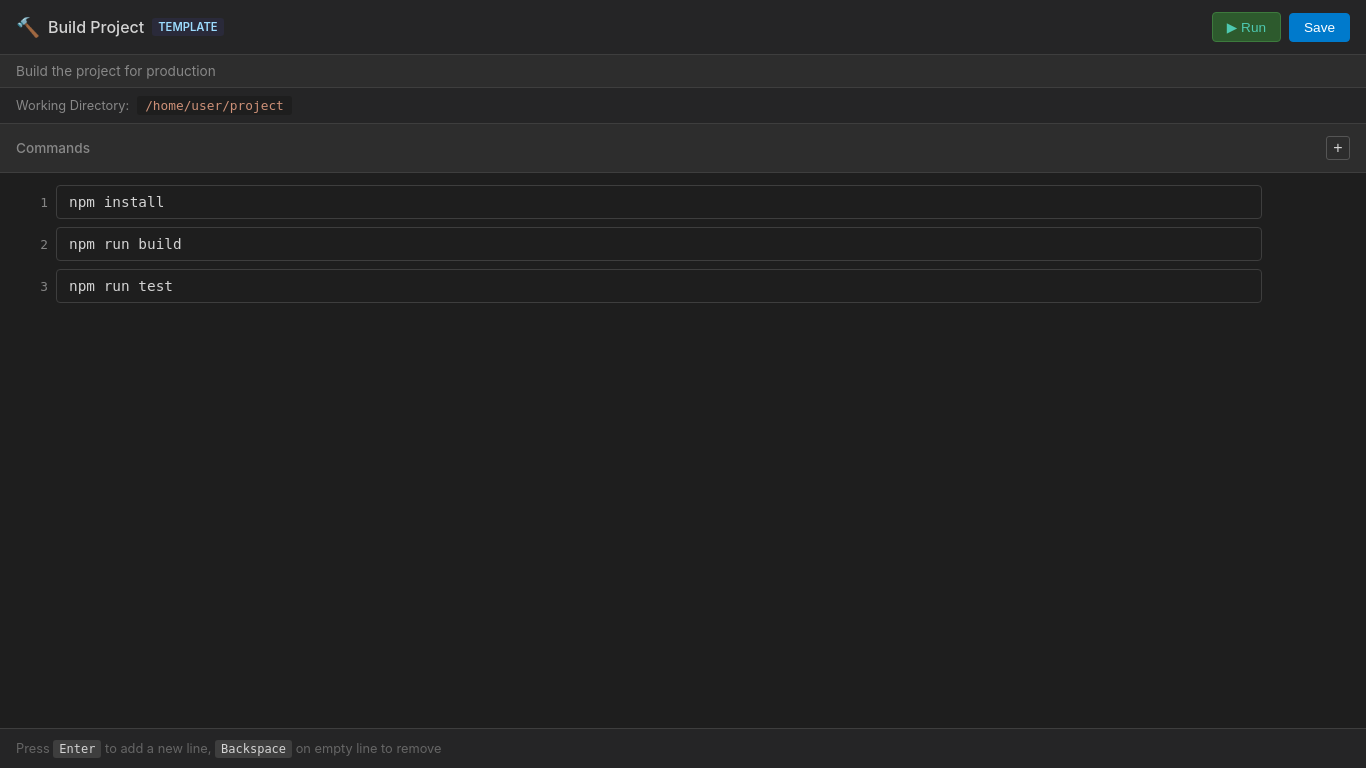
Test case: FlowEditor › Command Editing › should show dirty indicator when modified
The width and height of the screenshot is (1366, 768).
Replace the text in the 1st field with placeholder "Enter command..." with "yarn install" at (659,202), box [56,185,1262,219]
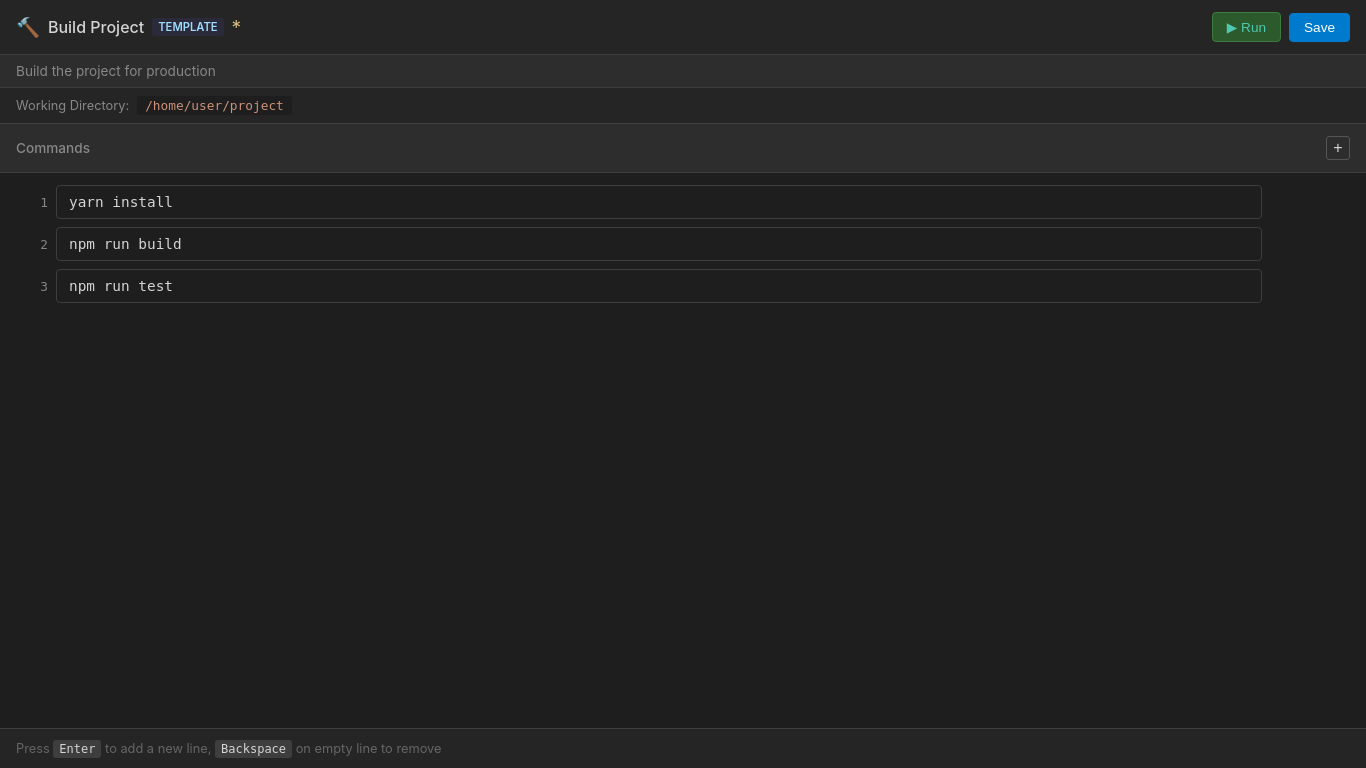
Expected: the text "*" is shown, [232,15,241,39]
